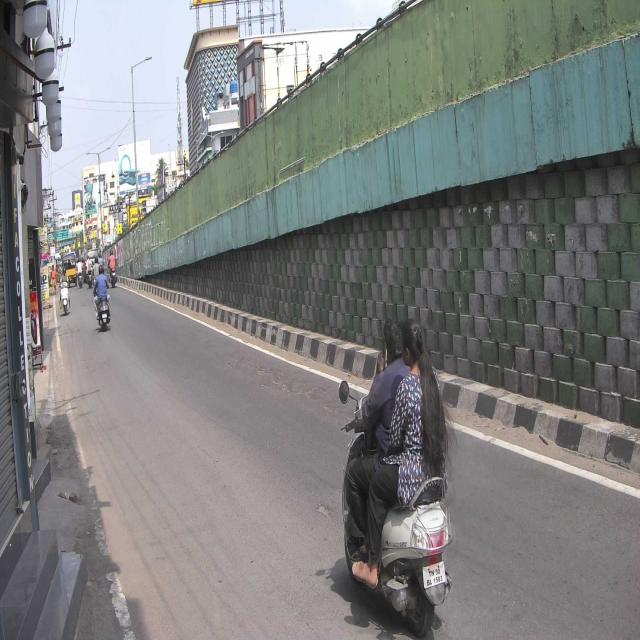double_rider: (339, 313, 453, 629)
